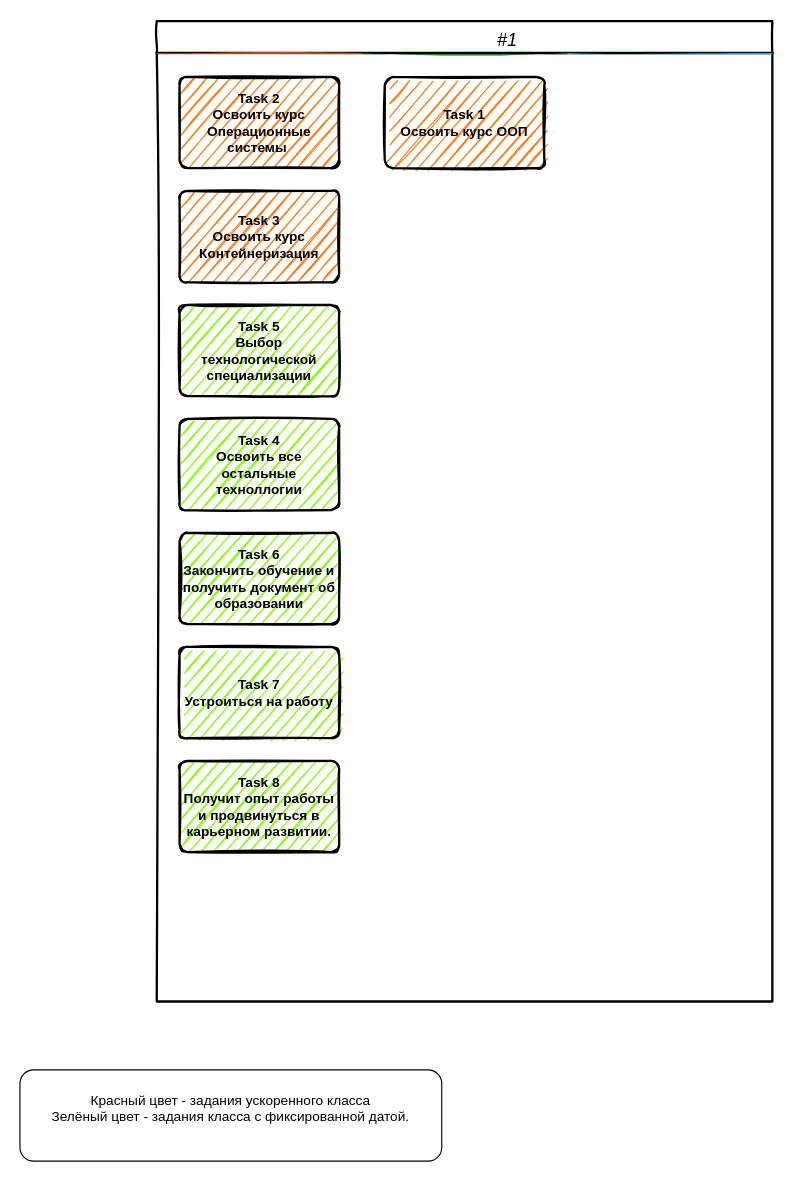
Image size: 793x1181. Some labels were removed from this diagram. The shapes that lost their labels are listed below. From the top down, each one's box as (x1, y1, x2, y2) in pixels, then its label:
(156, 52, 361, 1001): TO DO
(361, 52, 567, 1001): DOING
(567, 52, 772, 1001): DONE
